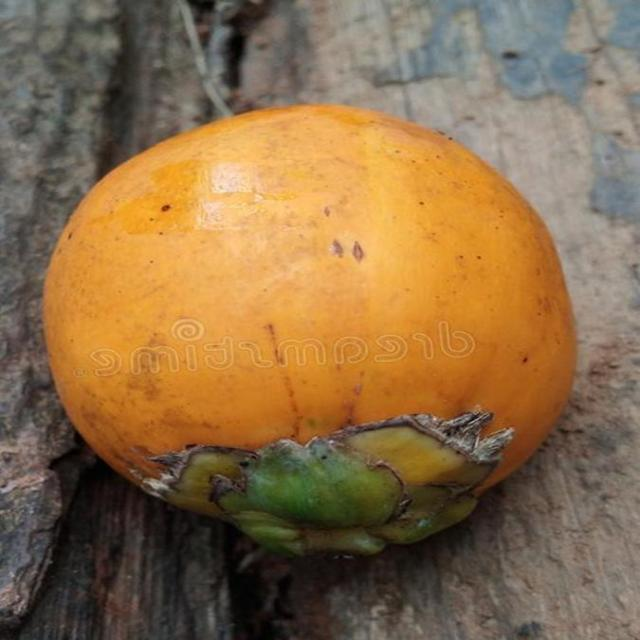good: (42, 103, 578, 560)
